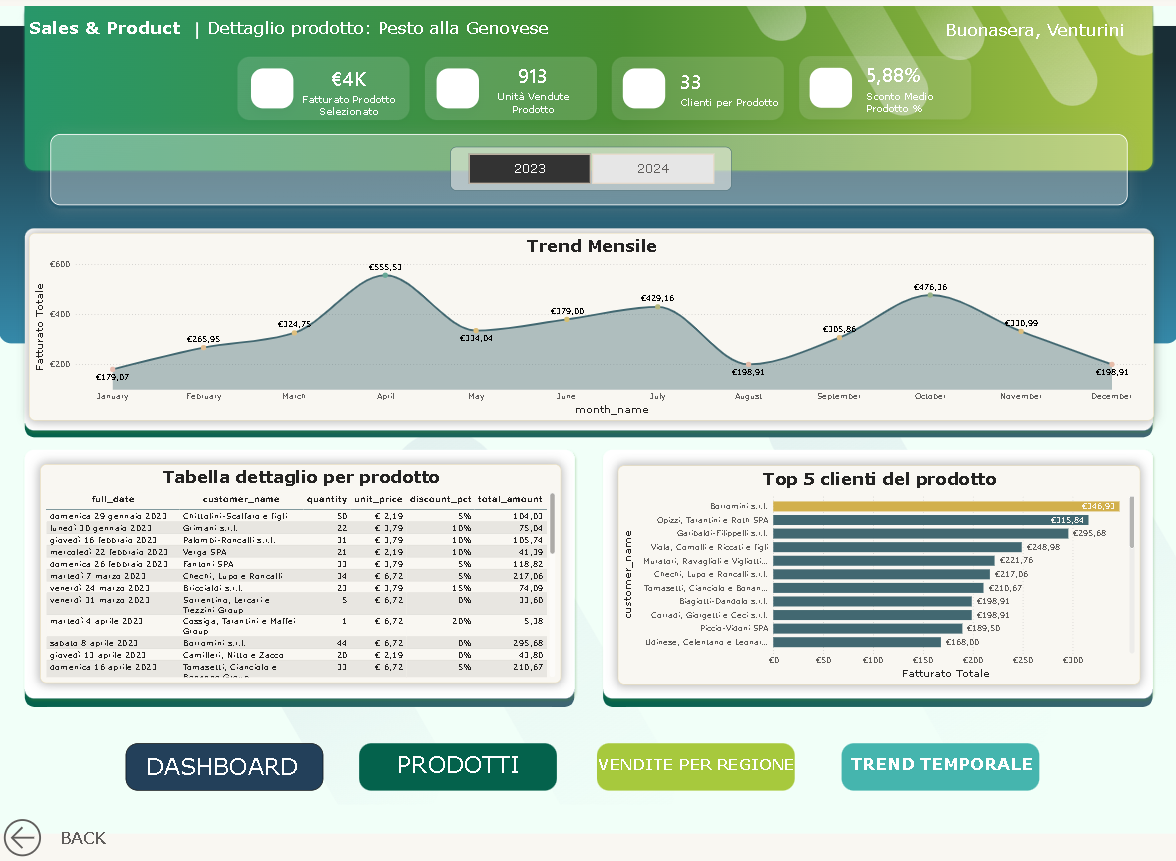

What the dashboard file says about the page in this screenshot:
{"tool":"powerbi","page":{"name":"DETTAGLIO PRODOTTO","canvas":[1889,1406],"ordinal":3},"visuals":[{"type":"cardVisual","fields":{"Data":["_Measures.Fatturato Prodotto Selezionato"]},"box":[447.5,115,222.5,112.5],"z":0},{"type":"cardVisual","fields":{"Data":["_Measures.Unità Vendute Prodotto"]},"box":[745,92.5,217.5,152.5],"z":1000},{"type":"cardVisual","fields":{"Data":["_Measures.Clienti Prodotto"]},"box":[1060,102.5,235,130],"z":2000},{"type":"tableEx","title":"Tabella dettaglio per prodotto","fields":{"Values":["Calendar.full_date","Customers.customer_name","Sales.quantity","Sales.unit_price","Sales.discount_pct","Sales.total_amount"]},"box":[65,770,833.3,350],"z":3000},{"type":"areaChart","title":"Trend Mensile","fields":{"Category":["Calendar.month_name"],"Y":["_Measures.Fatturato Totale"]},"box":[47.5,400,1800,300],"z":4000},{"type":"barChart","title":"Top 5 clienti del prodotto ","fields":{"Y":["_Measures.Fatturato Totale"],"Category":["Customers.customer_name"]},"box":[990,772,836,350],"z":5000},{"type":"shape","box":[202,1202,316,98],"z":6000},{"type":"shape","box":[960,1202.5,312.5,97.5],"z":7000},{"type":"shape","box":[1347.5,1200,315,97.5],"z":8000},{"type":"card","fields":{"Values":["_Measures.Titolo"]},"box":[38.3,38.9,262,68],"z":9000},{"type":"card","fields":{"Values":["_Measures.Dettaglio_prodotto"]},"box":[302.4,37.9,610,70],"z":10000},{"type":"card","fields":{"Values":["_Measures.Messaggio_benvenuto"]},"box":[1465,40,382.5,70],"z":11000},{"type":"textbox","box":[230,1224,262,60],"z":12000},{"type":"textbox","box":[632.5,1220,220,60],"z":13000},{"type":"textbox","box":[954,1230,340,60],"z":14000},{"type":"textbox","box":[1357.5,1227.5,307.5,57.5],"z":15000},{"type":"slicer","fields":{"Values":["Calendar.year"]},"box":[722.5,262.5,450,70],"z":18000},{"type":"actionButton","box":[0,1330,175,75],"z":19000},{"type":"cardVisual","fields":{"Data":["_Measures.Sconto Medio Prodotto %"]},"box":[1357.5,102.5,237.5,130],"z":20000},{"type":"shape","box":[578,1204,316,98],"z":20001},{"type":"shape","box":[956,1208,316,98],"z":20002}]}

Visuals, with their boxes in screenshot pixels (x1, y1, x2, y2), scaled from the page's 1889x1406 canvas onto the 1176x861 screenshot:
cardVisual - _Measures.Fatturato Prodotto Selezionato: x1=279 y1=70 x2=417 y2=139
cardVisual - _Measures.Unità Vendute Prodotto: x1=464 y1=57 x2=599 y2=150
cardVisual - _Measures.Clienti Prodotto: x1=660 y1=63 x2=806 y2=142
"Tabella dettaglio per prodotto" tableEx: x1=40 y1=472 x2=559 y2=686
"Trend Mensile" areaChart: x1=30 y1=245 x2=1150 y2=429
"Top 5 clienti del prodotto " barChart: x1=616 y1=473 x2=1137 y2=687
shape: x1=126 y1=736 x2=322 y2=796
shape: x1=598 y1=736 x2=792 y2=796
shape: x1=839 y1=735 x2=1035 y2=795
card - _Measures.Titolo: x1=24 y1=24 x2=187 y2=65
card - _Measures.Dettaglio_prodotto: x1=188 y1=23 x2=568 y2=66
card - _Measures.Messaggio_benvenuto: x1=912 y1=24 x2=1150 y2=67
textbox: x1=143 y1=750 x2=306 y2=786
textbox: x1=394 y1=747 x2=531 y2=784
textbox: x1=594 y1=753 x2=806 y2=790
textbox: x1=845 y1=752 x2=1037 y2=787
slicer - Calendar.year: x1=450 y1=161 x2=730 y2=204
actionButton: x1=0 y1=814 x2=109 y2=860
cardVisual - _Measures.Sconto Medio Prodotto %: x1=845 y1=63 x2=993 y2=142
shape: x1=360 y1=737 x2=557 y2=797
shape: x1=595 y1=740 x2=792 y2=800
